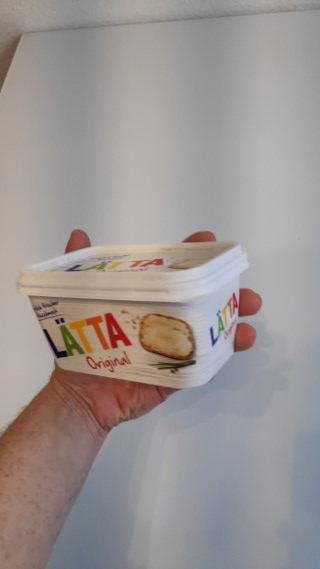laetta: (14, 239, 262, 389)
